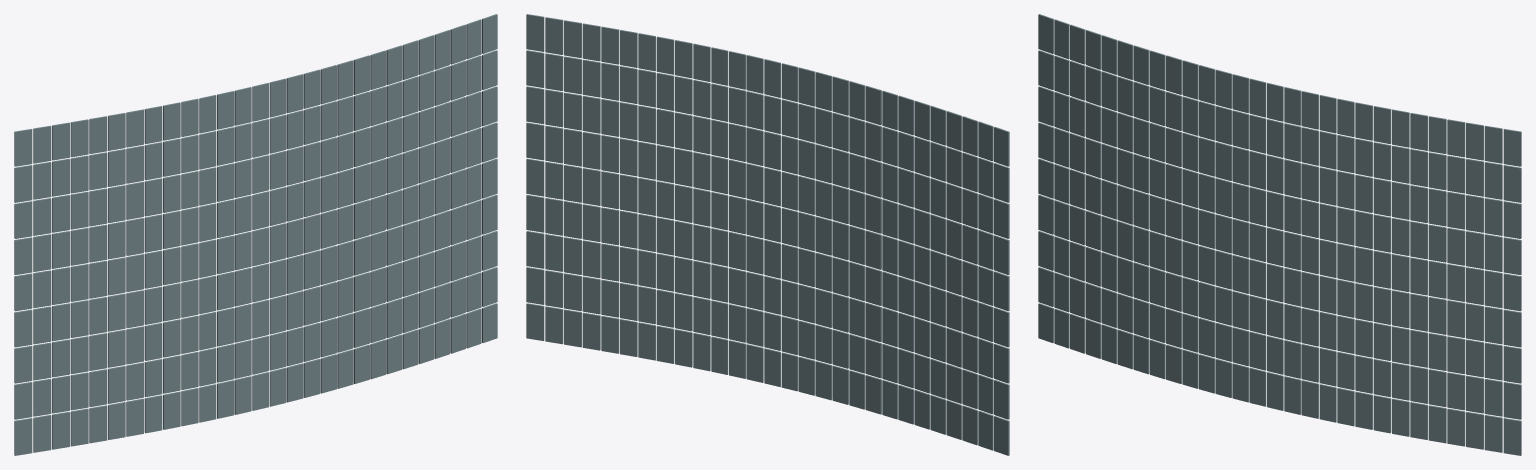
File: roof.obj
The picture shows the model from 3 angles, left to right: view 1: azimuth 30°, elevation 25°; view 2: azimuth 150°, elevation 25°; view 3: azimuth 330°, elevation 25°; orthographic projection.
Visible parts, largest first — view 1: geometry; view 2: geometry; view 3: geometry.
Boxes of the visible parts, bbox=[...] form: geometry: bbox=[14, 14, 497, 455]; geometry: bbox=[526, 14, 1009, 455]; geometry: bbox=[1038, 14, 1521, 455].
Size of the model in its own units: 27.93 by 17.91 by 1.44.
